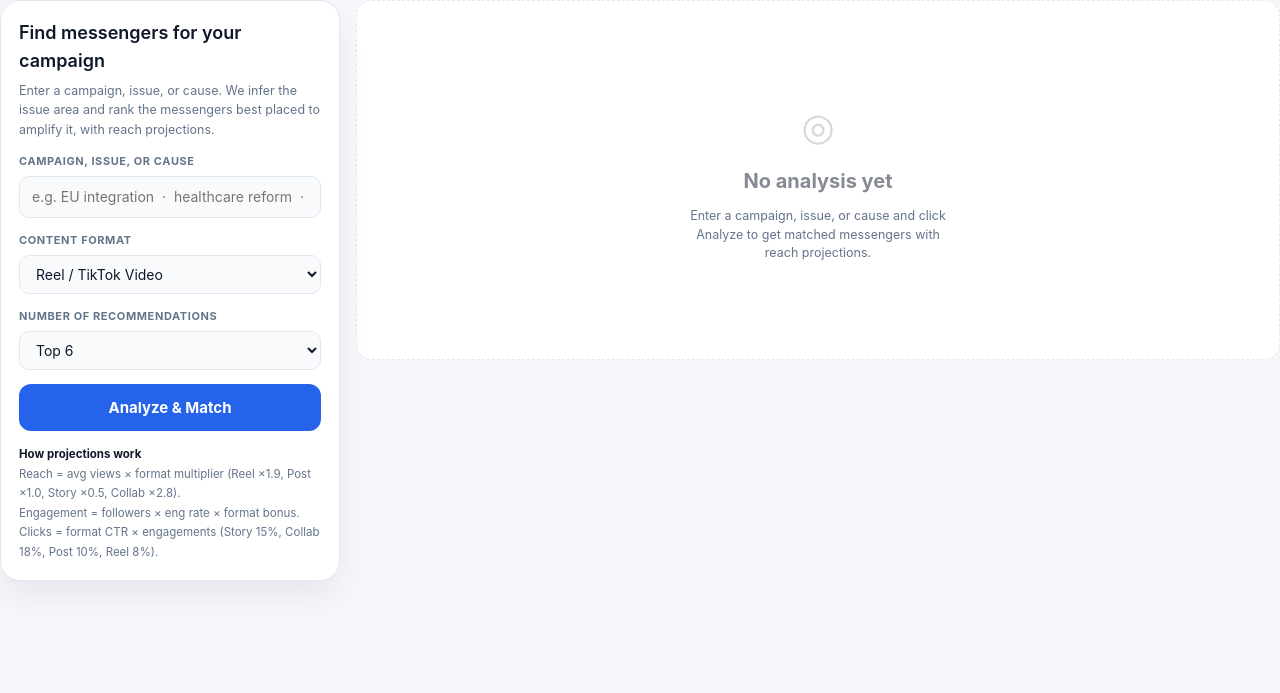
Test: CampaignsAudienceWorkspace › produces ranked matches and projections after analyzing a campaign
Type "healthcare reform" into the field with placeholder "e.g. EU integration · healthcare reform · get-out-the-vote" at point(170, 197), box [19,176,321,218]
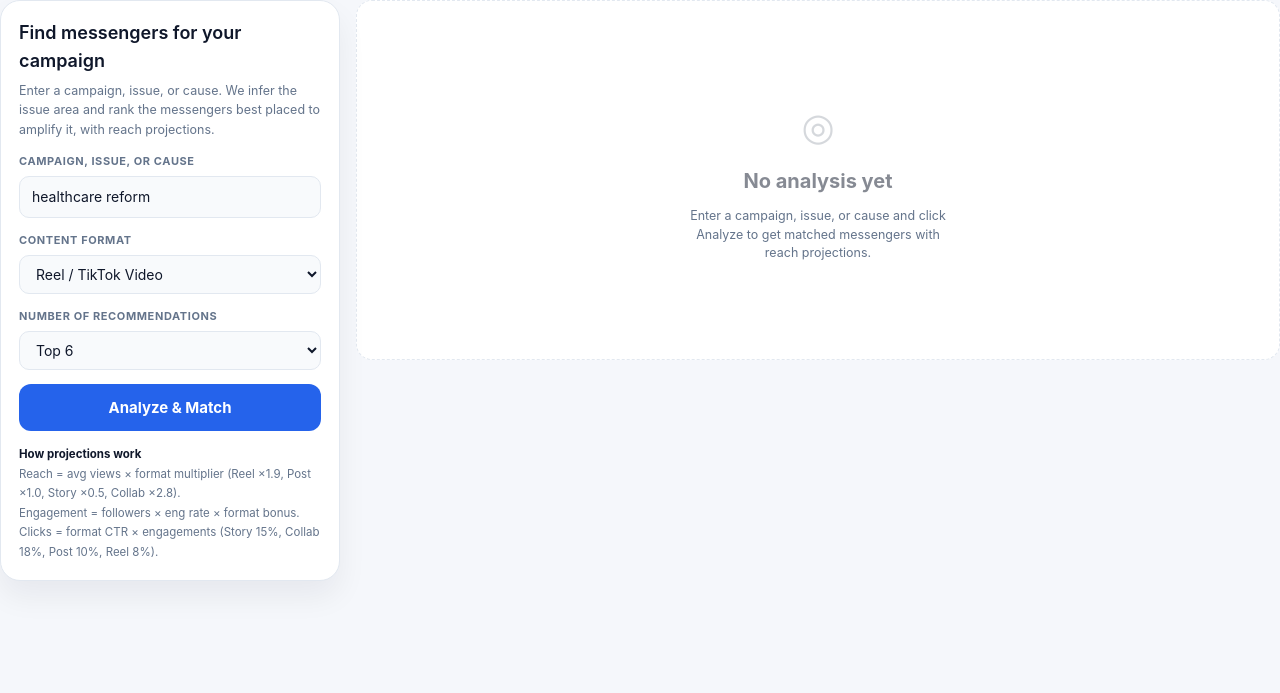
Click the button "Analyze & Match" at point(170, 407), box [19,384,321,431]
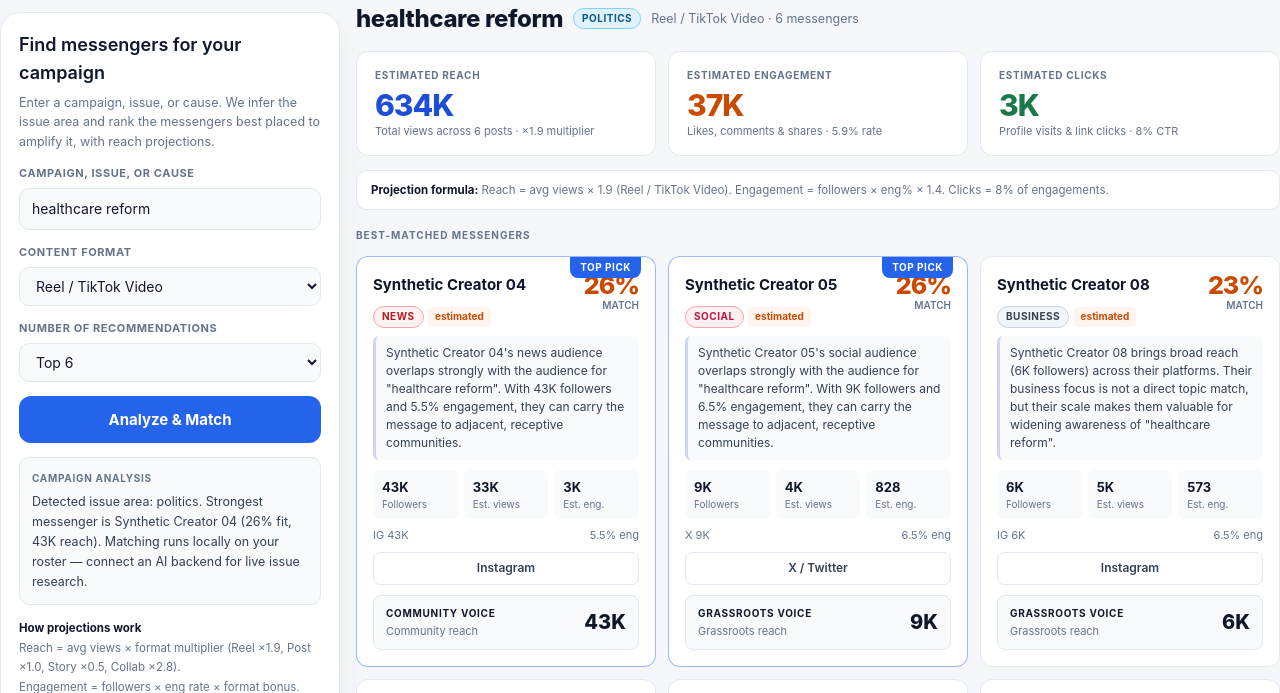
Expected: the text "Best-matched messengers" is shown, [356,230,531,242]
Expected: the text "Estimated reach" is shown, [375,69,480,81]
